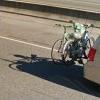Bicycle: (47, 15, 89, 72)
